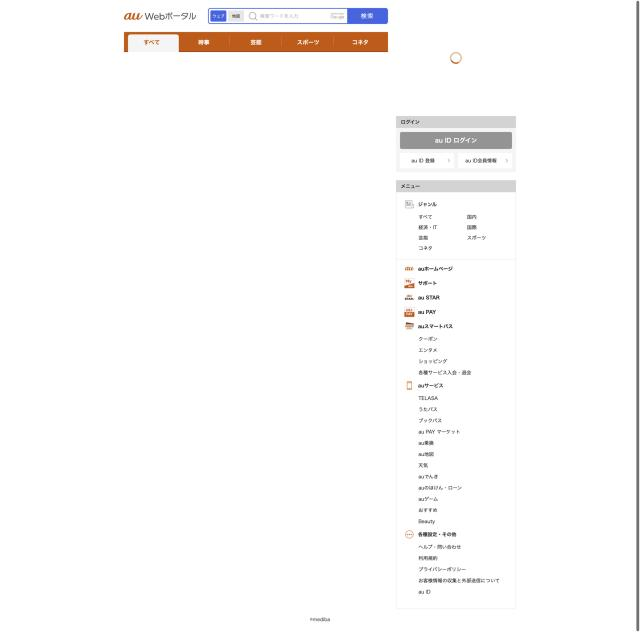CheckBox: (400, 132, 512, 149), (347, 8, 388, 24), (210, 10, 227, 22), (228, 10, 245, 22)
CheckedTextView: (208, 7, 388, 25)
badge: (0, 611, 640, 640)
carousel: (248, 11, 258, 22)
data feed: (433, 135, 478, 145), (358, 12, 375, 20), (212, 12, 226, 20), (231, 12, 242, 20)
date picker: (122, 6, 202, 24)
footer: (260, 11, 300, 21)
icon: (123, 31, 390, 54)
